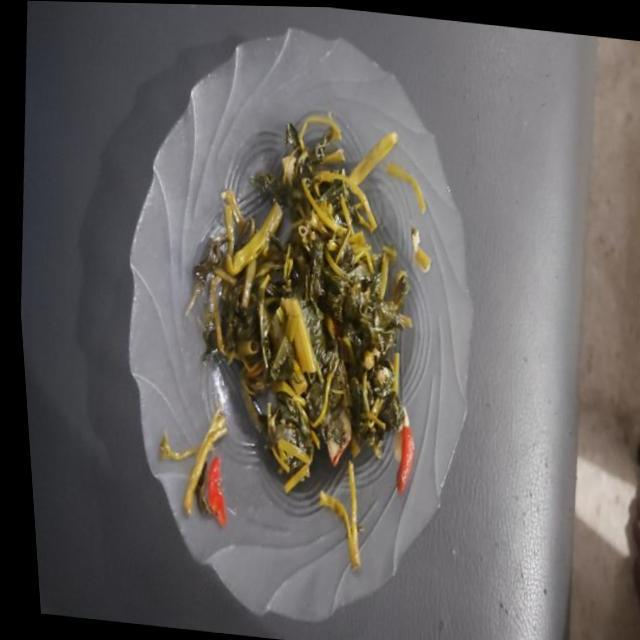tumis_kangkung: (194, 112, 411, 492)
